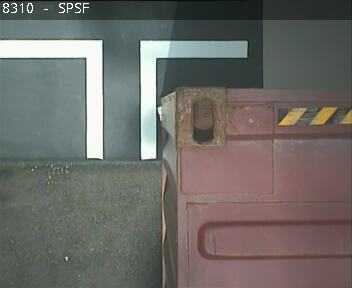groundmarker_1: (1, 38, 246, 158)
